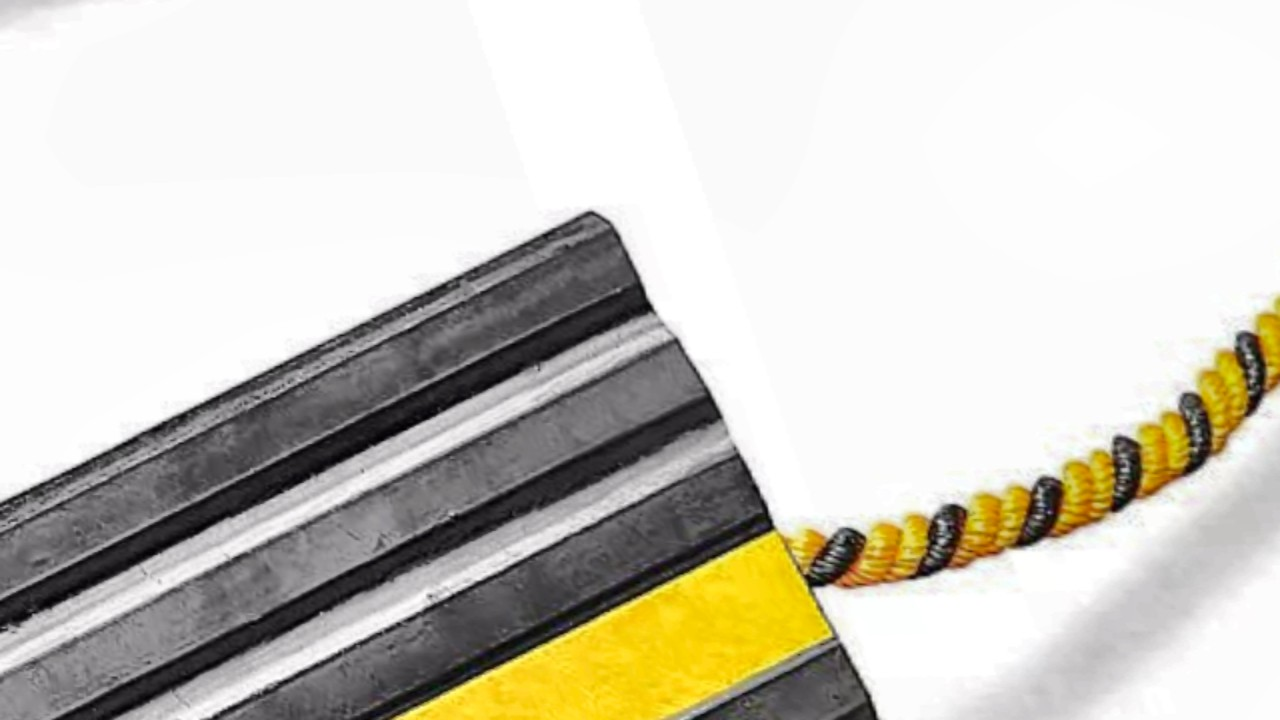chock: (0, 127, 1197, 720)
